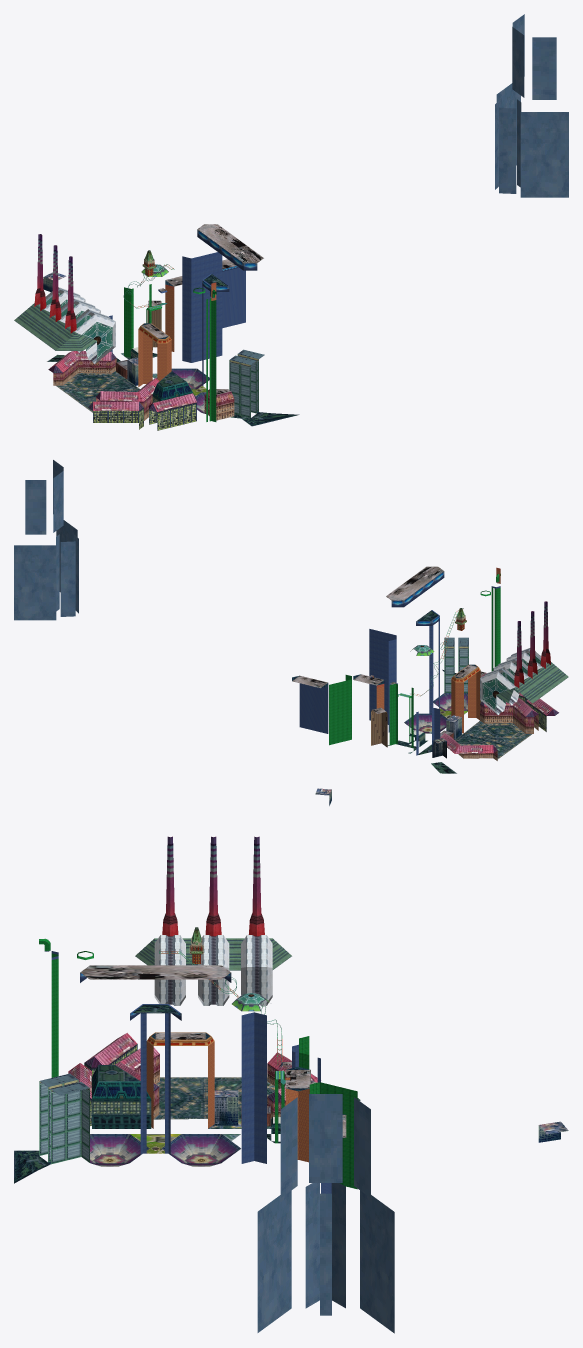
3 renders of one model, top to bottom at view 1: azimuth 30°, elevation 25°; view 2: azimuth 150°, elevation 25°; view 3: azimuth 270°, elevation 25°, orthographic. The views are drawn at different scales.
Parts seen in each view (by area): view 1: s03_on_08_41, s03_on_08_13, s03_on_08_11, s03_on_08_15, s03_on_08_5, s03_on_08_19, s03_on_08_9, s03_on_08_8, s03_on_08_23, s03_on_08_12, s03_on_08_31, s03_on_08_16 (+3 smaller); view 2: s03_on_08_41, s03_on_08_13, s03_on_08_19, s03_on_08_11, s03_on_08_15, s03_on_08_12, s03_on_08_9, s03_on_08_8, s03_on_08_23, s03_on_08_5, s03_on_08_34, s03_on_08_20 (+3 smaller); view 3: s03_on_08_41, s03_on_08_13, s03_on_08_11, s03_on_08_16, s03_on_08_19, s03_on_08_20, s03_on_08_12, s03_on_08_15, s03_on_08_32, s03_on_08_5, s03_on_08_9, s03_on_08_34 (+5 smaller).
Part boxes in pixels (<box>): s03_on_08_41: <box>495,14,568,197</box>; s03_on_08_13: <box>109,252,245,385</box>; s03_on_08_11: <box>47,274,299,426</box>; s03_on_08_15: <box>34,234,164,359</box>; s03_on_08_5: <box>49,264,196,411</box>; s03_on_08_19: <box>124,284,216,421</box>; s03_on_08_9: <box>138,286,216,387</box>; s03_on_08_8: <box>14,303,96,350</box>; s03_on_08_23: <box>53,358,234,420</box>; s03_on_08_12: <box>141,224,263,394</box>; s03_on_08_31: <box>93,402,196,430</box>; s03_on_08_16: <box>229,361,258,417</box>; s03_on_08_41: <box>14,460,78,620</box>; s03_on_08_13: <box>299,586,500,755</box>; s03_on_08_19: <box>329,574,500,748</box>; s03_on_08_11: <box>292,610,558,773</box>; s03_on_08_15: <box>414,601,550,710</box>; s03_on_08_12: <box>292,566,485,713</box>; s03_on_08_9: <box>376,570,500,733</box>; s03_on_08_8: <box>496,662,568,703</box>; s03_on_08_23: <box>447,673,538,760</box>; s03_on_08_5: <box>410,620,557,753</box>; s03_on_08_34: <box>480,648,546,714</box>; s03_on_08_20: <box>404,693,467,733</box>; s03_on_08_41: <box>257,1094,394,1333</box>; s03_on_08_13: <box>51,951,331,1193</box>; s03_on_08_11: <box>14,1004,360,1183</box>; s03_on_08_16: <box>39,1084,89,1164</box>; s03_on_08_19: <box>39,938,357,1189</box>; s03_on_08_20: <box>90,1134,240,1166</box>; s03_on_08_12: <box>80,965,346,1137</box>; s03_on_08_15: <box>162,836,264,1004</box>; s03_on_08_32: <box>160,935,266,1005</box>; s03_on_08_5: <box>68,945,321,1100</box>; s03_on_08_9: <box>146,1041,309,1162</box>; s03_on_08_34: <box>154,935,272,1005</box>.
Bounding box in the file's own units: 22932 × 9229 × 14108.
